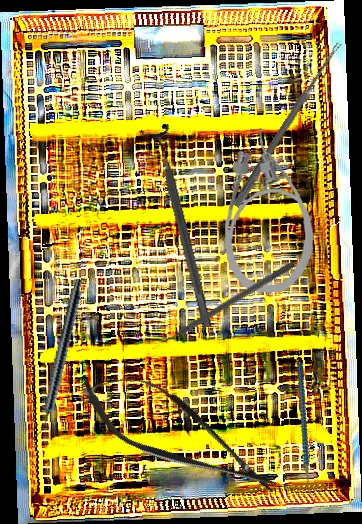Cannula: (221, 126, 320, 295)
Chopper: (264, 360, 351, 502)
Fixation Ring: (138, 122, 223, 332)
Handpiece: (34, 277, 85, 438)
Micro Scissor: (67, 351, 293, 518)
Pusher: (149, 258, 297, 353)
Surgical Spoon: (232, 40, 343, 209)
